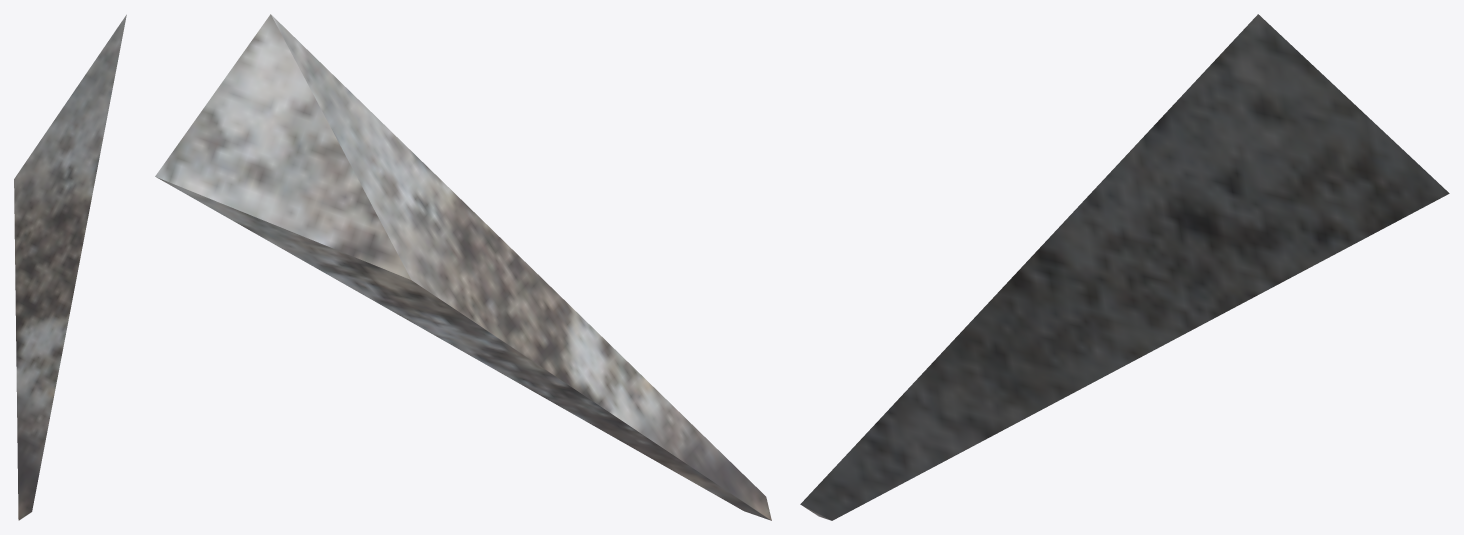
The model's file is Asteroid_Large_001_02_008_03_009.fbx.
3 renders of one model, left to right at view 1: azimuth 30°, elevation 25°; view 2: azimuth 150°, elevation 25°; view 3: azimuth 270°, elevation 25°, orthographic. The views are drawn at different scales.
Visible parts, largest first — view 1: Asteroid_Large_001_02_008_03_009; view 2: Asteroid_Large_001_02_008_03_009; view 3: Asteroid_Large_001_02_008_03_009.
Part boxes in pixels (x1,y1,x2,y2): Asteroid_Large_001_02_008_03_009: (14,14,126,520); Asteroid_Large_001_02_008_03_009: (155,14,771,520); Asteroid_Large_001_02_008_03_009: (800,14,1449,520).
Size of the model in its own units: 3.16 by 4.45 by 3.68.
